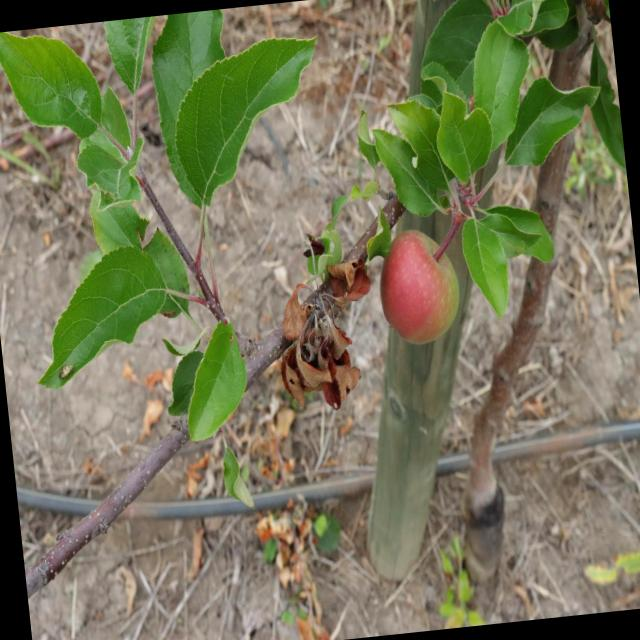-FireBlight-: (286, 278, 364, 408)
